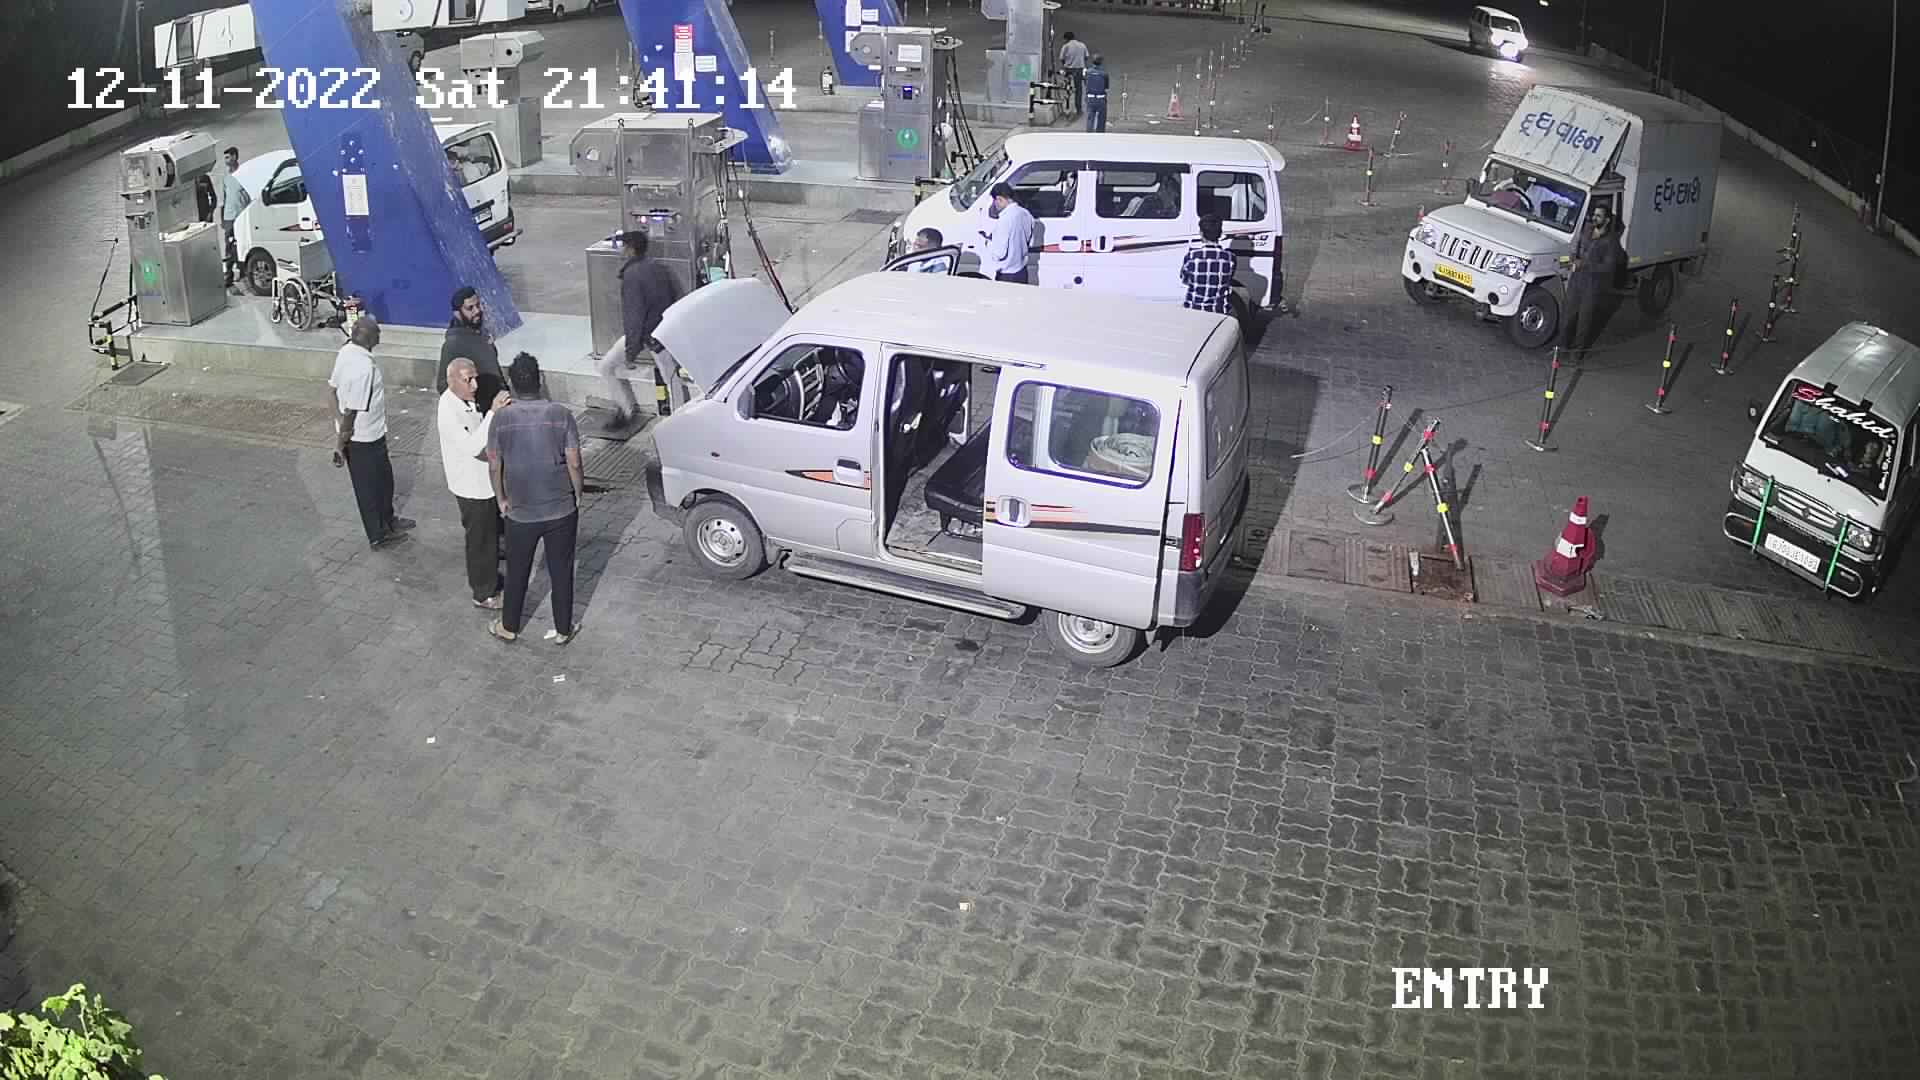Car: (620, 269, 1259, 678), (872, 125, 1294, 353), (1395, 67, 1712, 351), (1714, 301, 1920, 609), (214, 144, 351, 306), (1456, 0, 1544, 67)
